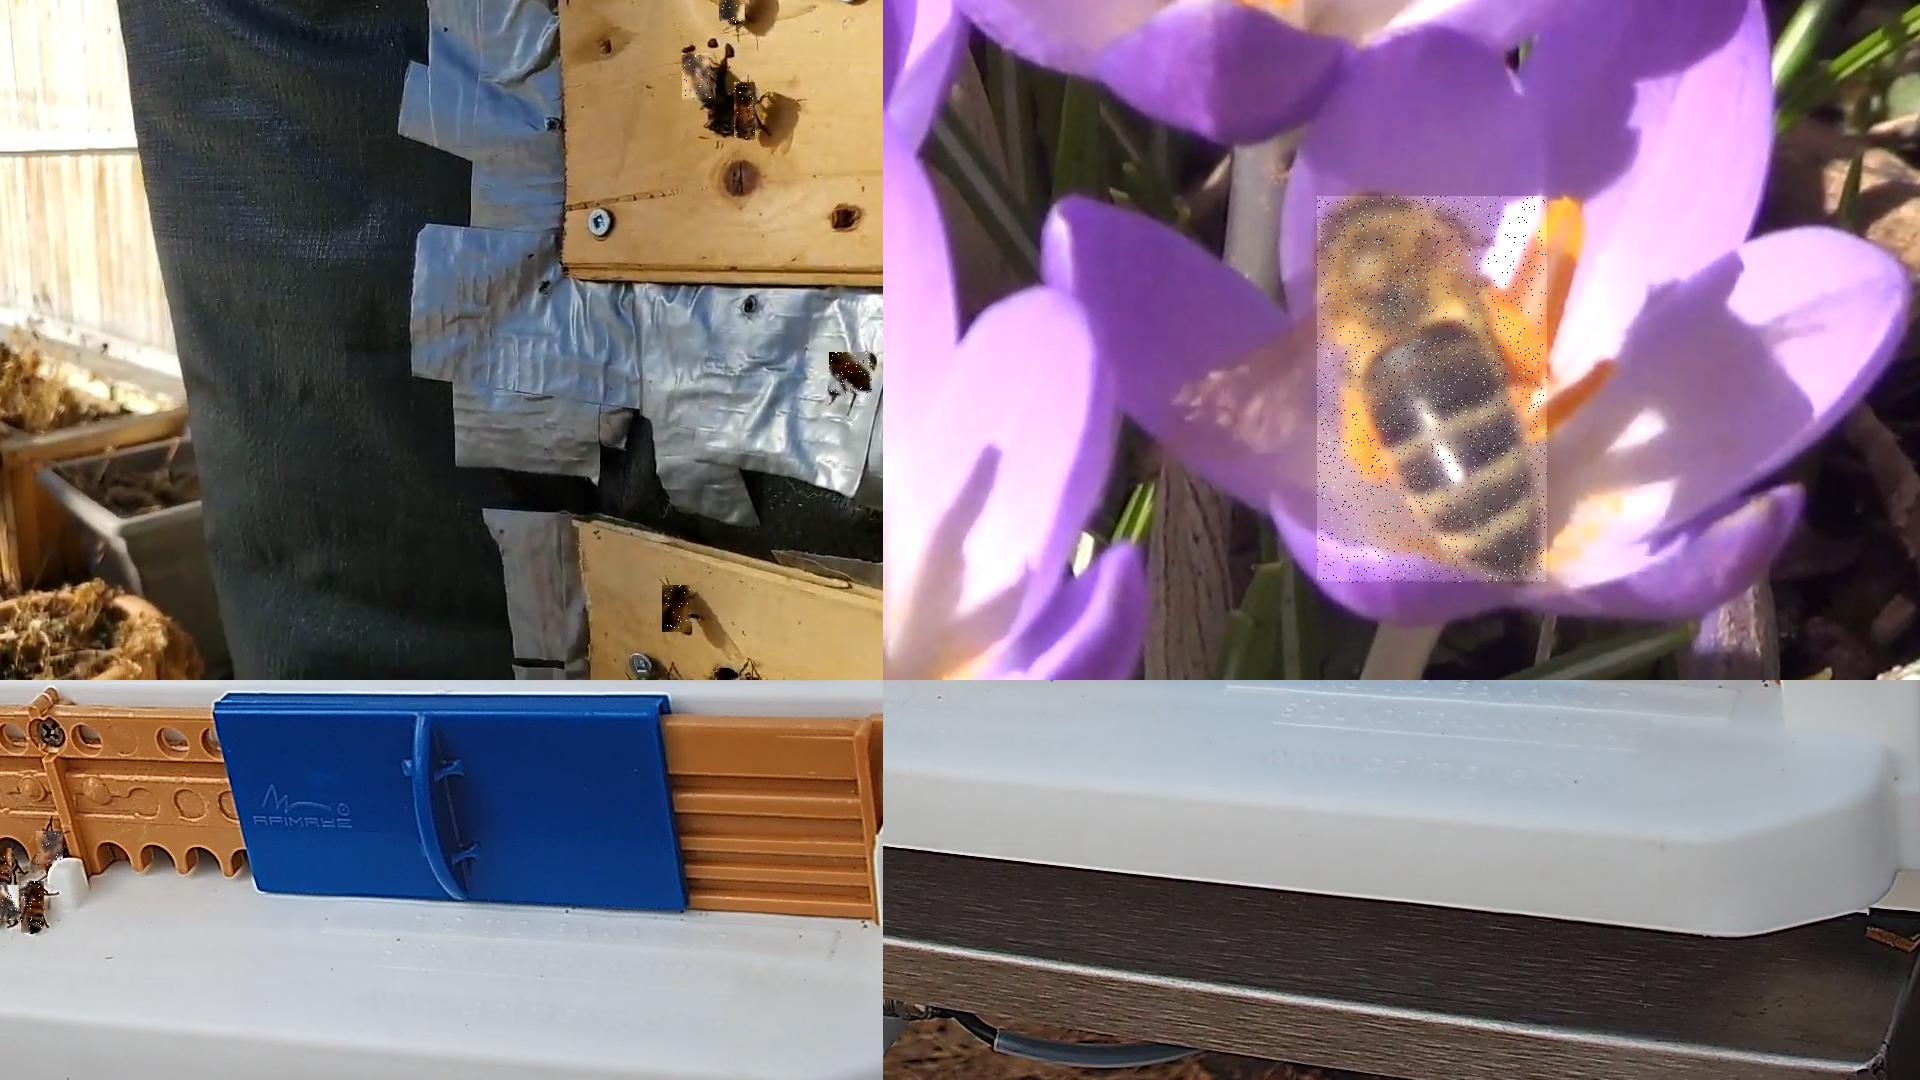bee: (830, 353, 875, 396), (683, 54, 714, 103), (663, 585, 693, 633), (21, 881, 45, 934), (734, 82, 756, 139), (36, 832, 64, 867), (0, 885, 21, 924), (718, 0, 747, 25), (0, 848, 14, 888)
pollenbee: (1317, 197, 1548, 585)
